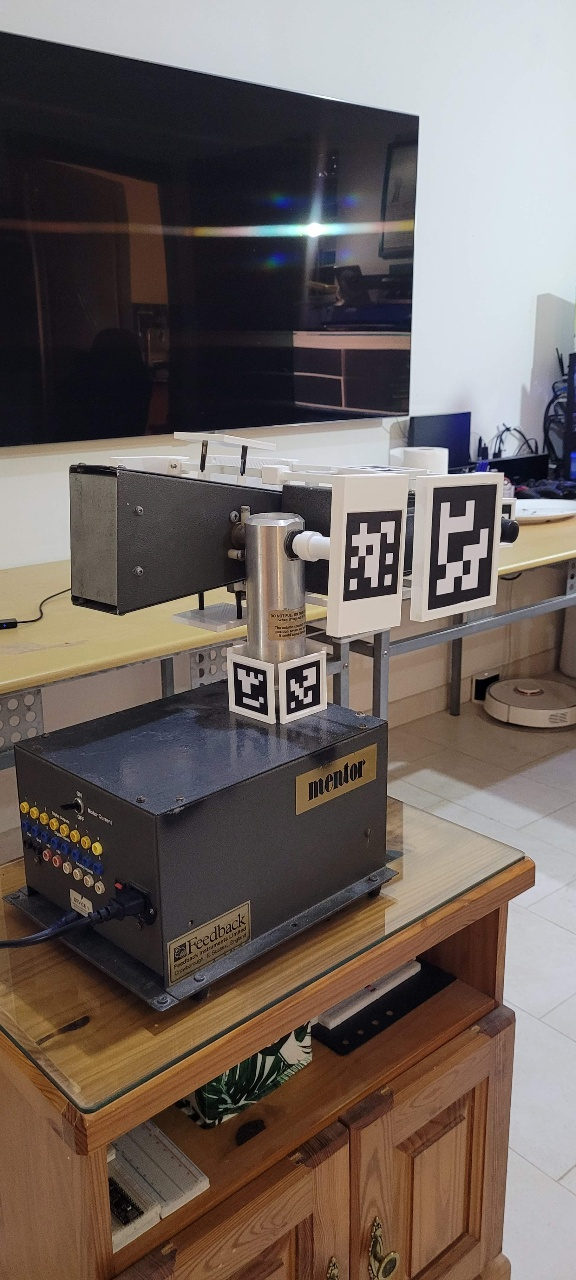Robot: (37, 228, 553, 1023)
